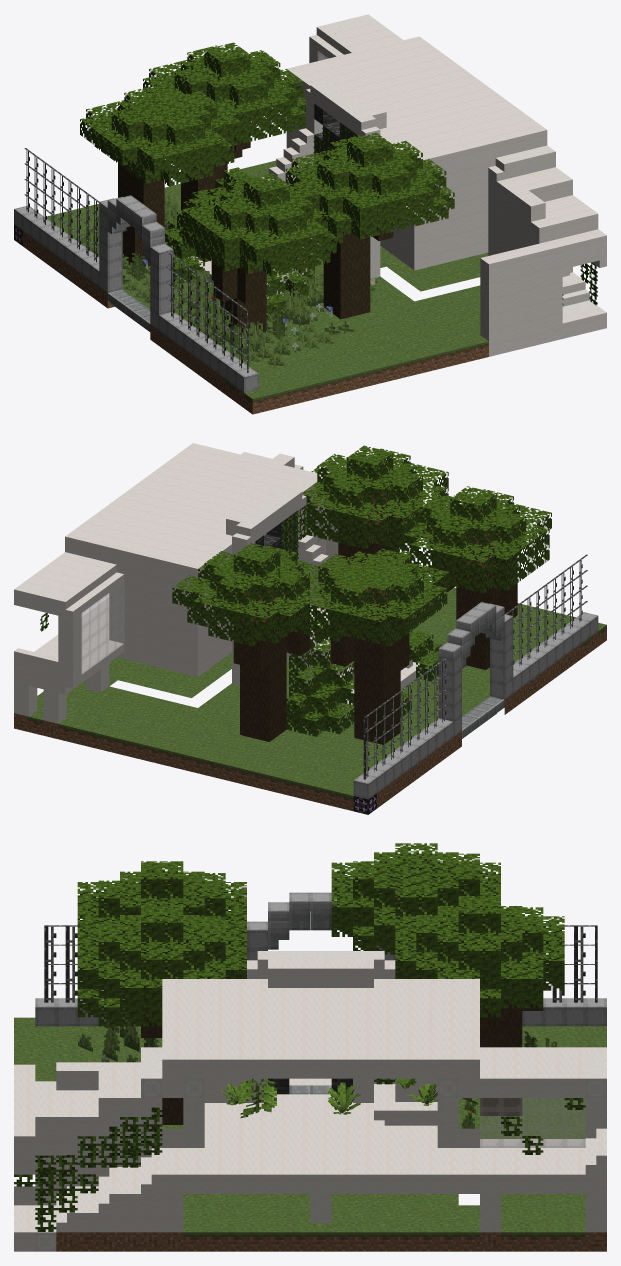
File: entrance.glb
The picture shows the model from 3 angles, top to bottom: view 1: azimuth 30°, elevation 25°; view 2: azimuth 150°, elevation 25°; view 3: azimuth 270°, elevation 25°; orthographic projection. The views are drawn at different scales.
Parts seen in each view (by area): view 1: node_7, node_6, node_11, node_12, node_14, node_13, node_10, node_15, node_2, node_4; view 2: node_11, node_15, node_10, node_6, node_12, node_13, node_14, node_7, node_4, node_8, node_2, node_9; view 3: node_11, node_4, node_2, node_7, node_10, node_6, node_12, node_14, node_13, node_15, node_8, node_1 (+2 smaller).
Part boxes in pixels (box(x1,y1,x2,y2)): node_7: box(266, 106, 577, 392); node_6: box(265, 132, 454, 350); node_11: box(164, 21, 474, 283); node_12: box(165, 173, 315, 372); node_14: box(24, 86, 215, 312); node_13: box(150, 191, 341, 414); node_10: box(143, 42, 305, 261); node_15: box(14, 107, 219, 331); node_2: box(475, 99, 606, 335); node_4: box(339, 14, 504, 105); node_11: box(43, 481, 415, 793); node_15: box(279, 564, 504, 814); node_10: box(172, 543, 383, 736); node_6: box(302, 445, 487, 662); node_12: box(416, 486, 587, 681); node_13: box(420, 503, 606, 714); node_14: box(322, 548, 449, 779); node_7: box(180, 450, 517, 674); node_4: box(14, 474, 179, 735); node_8: box(81, 582, 124, 673); node_2: box(150, 443, 271, 481); node_9: box(271, 511, 298, 565); node_11: box(268, 898, 606, 1214); node_4: box(268, 1041, 606, 1251); node_2: box(14, 1041, 267, 1251); node_7: box(14, 924, 267, 1214); node_10: box(331, 879, 564, 1128); node_6: box(77, 898, 246, 1026); node_12: box(44, 861, 246, 1062); node_14: box(331, 843, 597, 1047); node_13: box(14, 880, 267, 1071); node_15: box(268, 871, 606, 1047); node_8: box(480, 1098, 585, 1147); node_1: box(35, 1078, 276, 1231).
Bounding box in the file's own units: 24.41 × 12 × 28.
3 materials, 3 textured.
